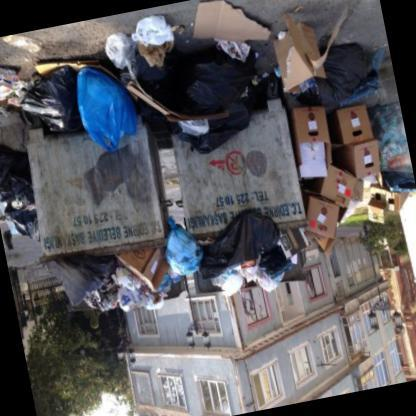Garbage: (0, 0, 279, 149), (283, 4, 415, 257), (49, 235, 192, 344), (148, 30, 258, 156), (194, 213, 312, 299), (280, 30, 380, 127), (68, 56, 141, 155), (0, 136, 49, 256), (3, 56, 76, 134), (100, 14, 197, 68), (158, 228, 203, 274)
